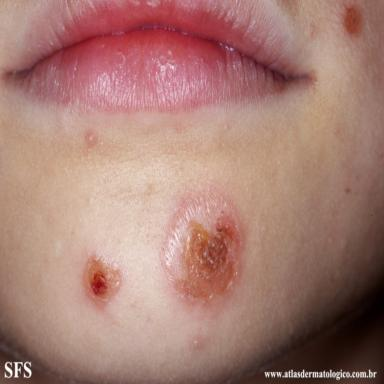Impetigo: (161, 190, 246, 313), (81, 252, 122, 311), (340, 1, 367, 39)
